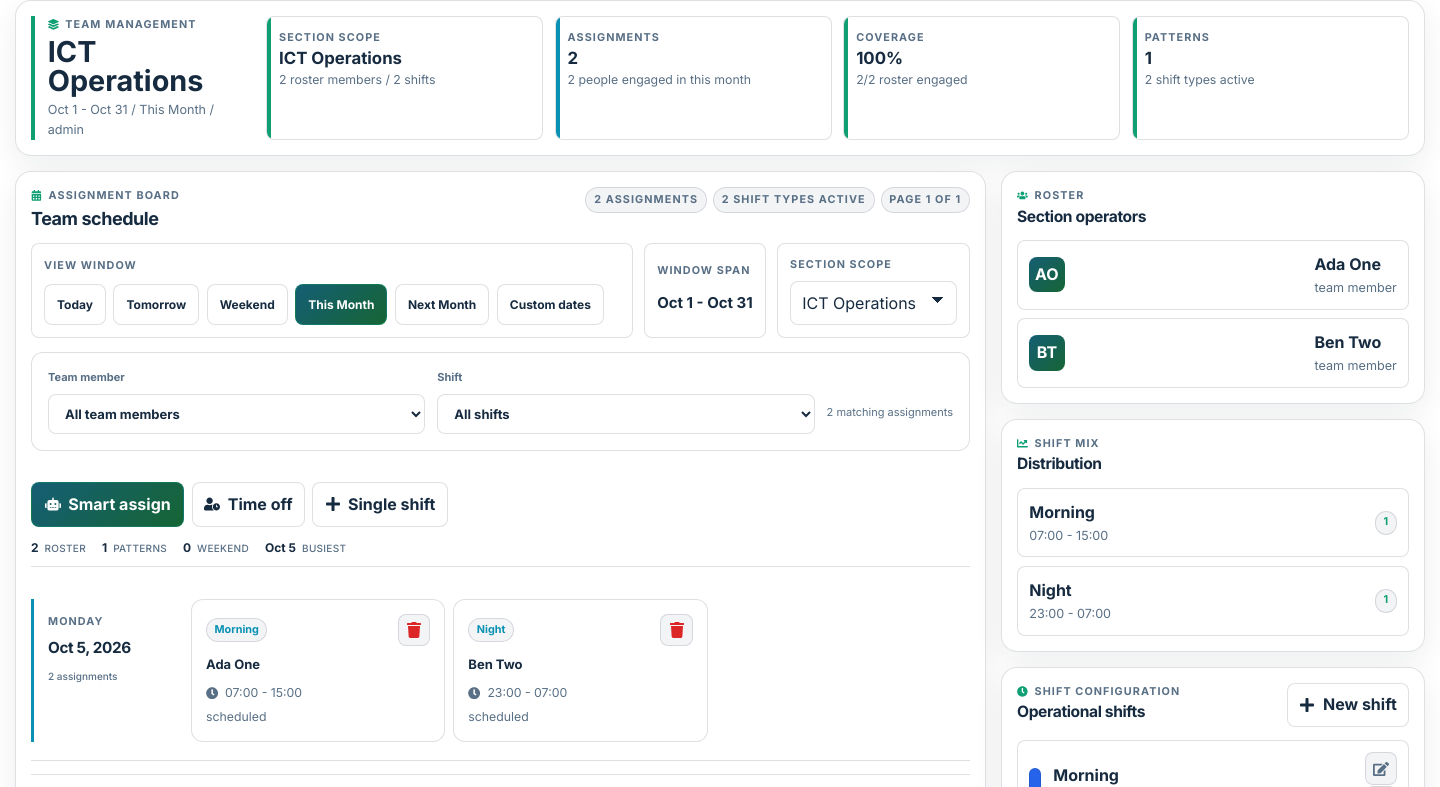
it: admin opens their own section and Smart Assignment loads its existing patterns
Check: the dropdown named "Section scope" shows "ICT Operations", box [790,281,957,325]
Click the button "Smart assign" at point(108, 504), box [31,482,184,527]
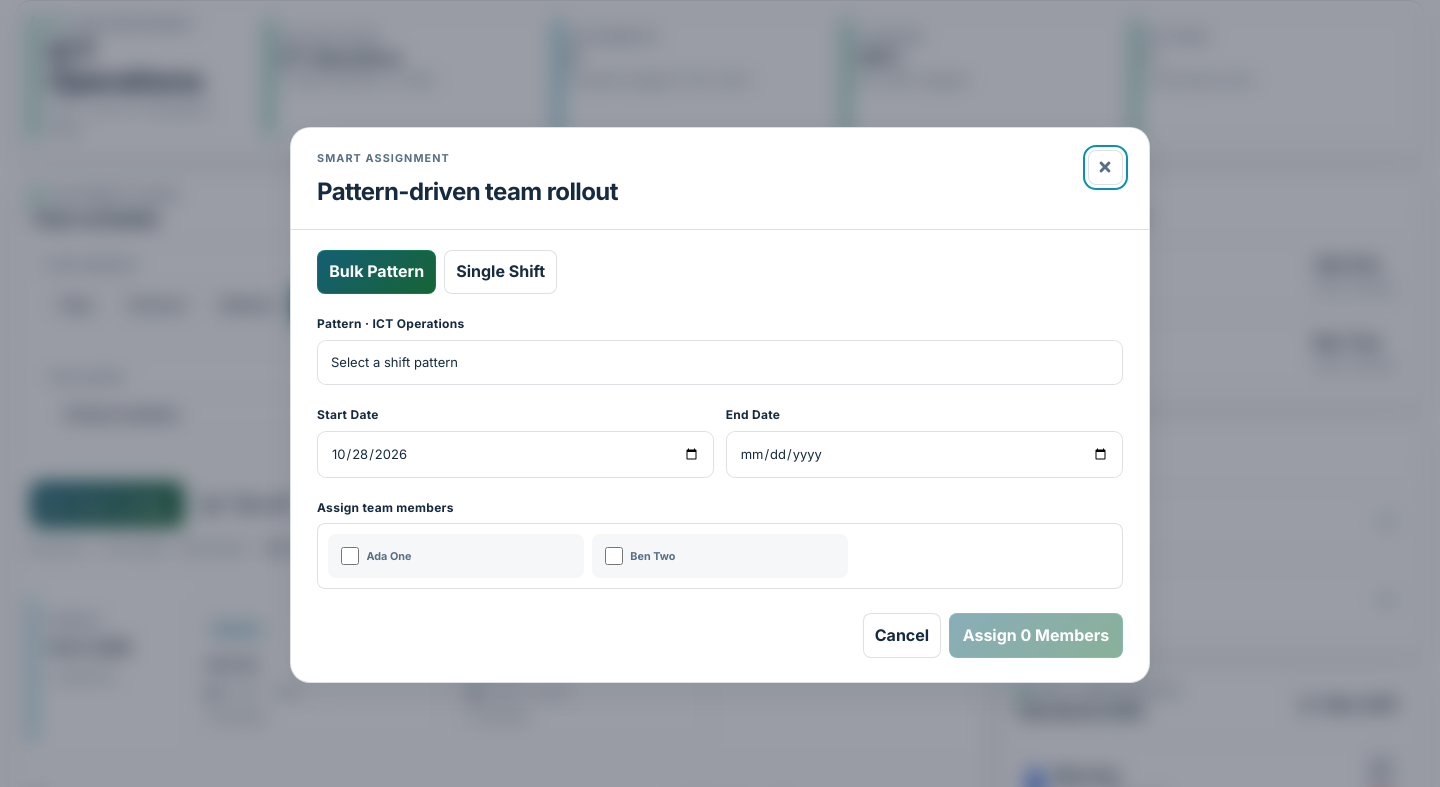
Check: the dropdown labelled "Pattern · ICT Operations" is enabled
Select "Weekday operations (FIXED)" in the dropdown labelled "Pattern · ICT Operations" at point(720, 362), box [317,340,1123,385]
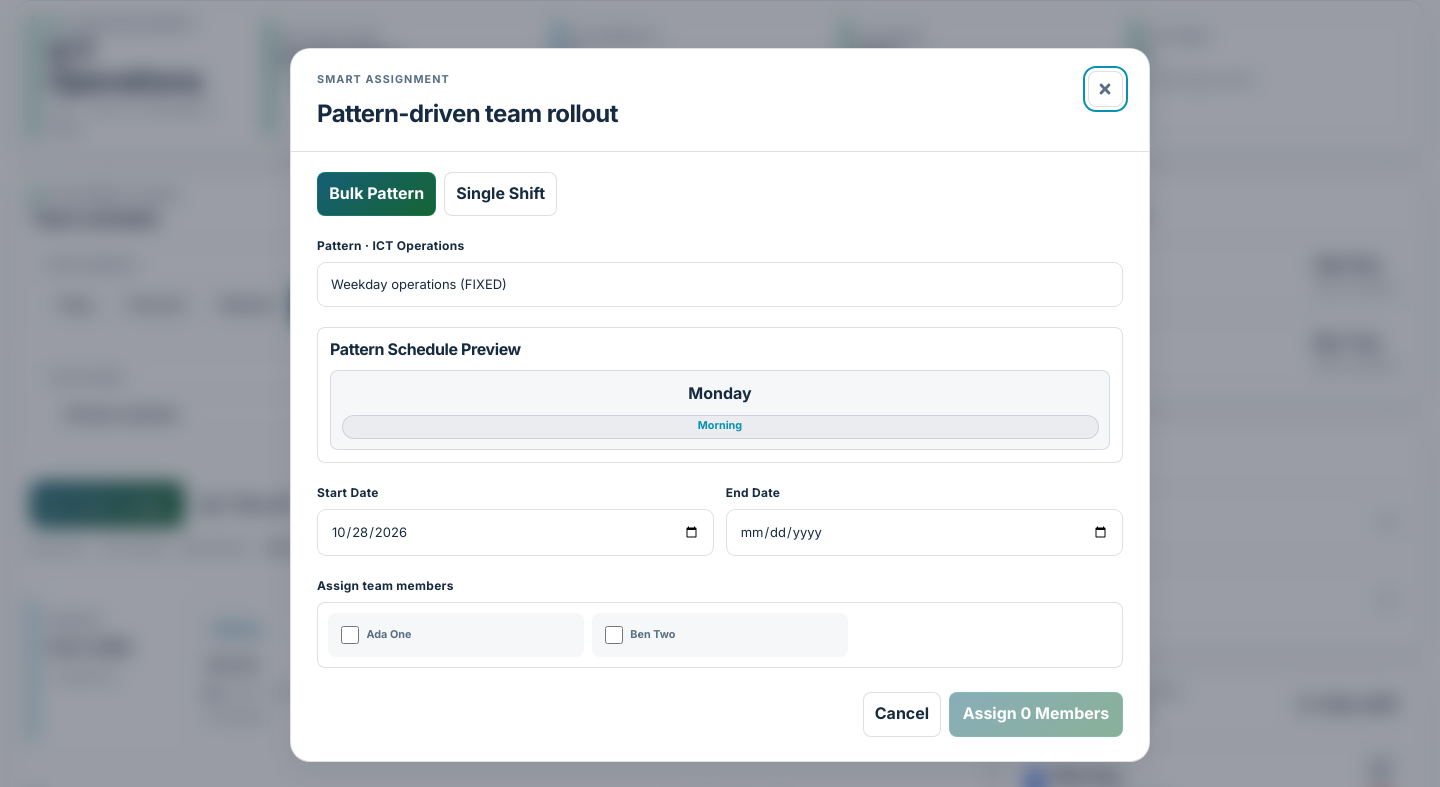
Check: the heading "Pattern Schedule Preview" is shown, box [330,338,521,358]
